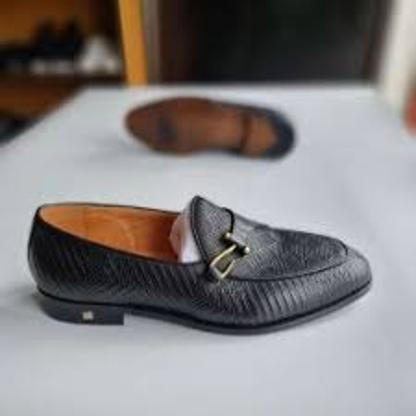not trash: (25, 198, 376, 331), (126, 94, 297, 168)
